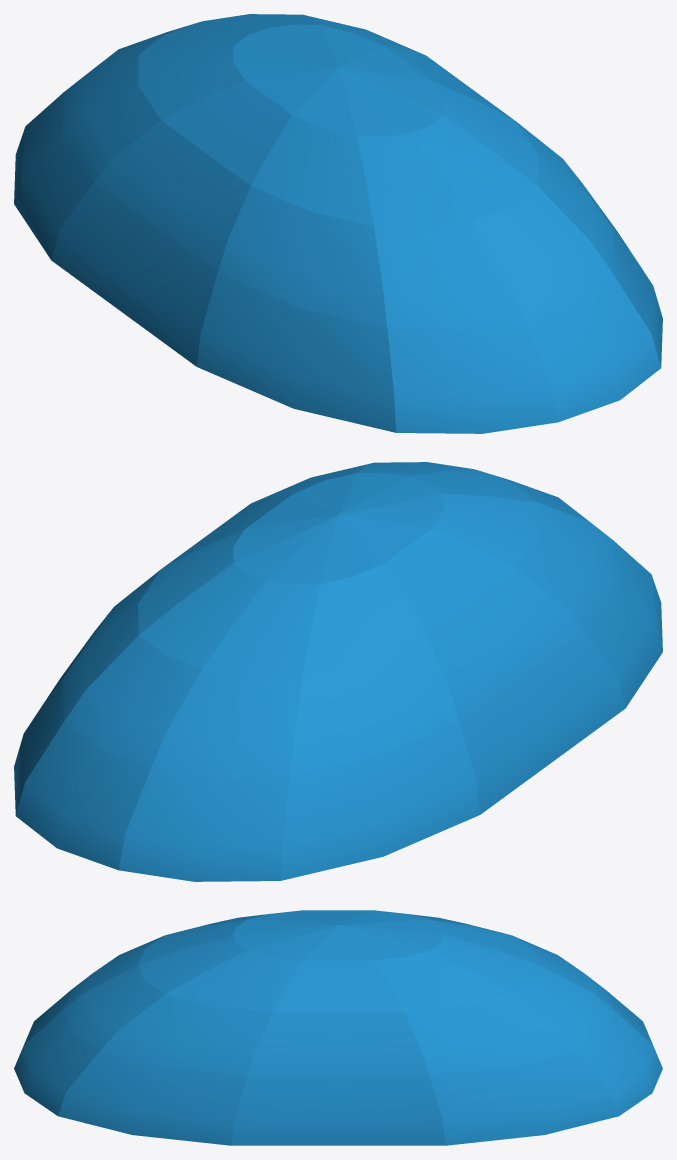
File: ComputerMouse.fbx
3 views of the same model, one above another, from view 1: azimuth 30°, elevation 25°; view 2: azimuth 150°, elevation 25°; view 3: azimuth 270°, elevation 25° (orthographic). The views are drawn at different scales.
Visible parts, largest first — view 1: ComputerMouse; view 2: ComputerMouse; view 3: ComputerMouse.
Boxes of the visible parts, x1,y1,x2,y2 form: ComputerMouse: (14, 14, 662, 433); ComputerMouse: (14, 462, 662, 881); ComputerMouse: (14, 910, 662, 1145).
Size of the model in its own units: 0.5234 by 0.2266 by 0.9295.
Materials: 1 (1 with a texture image).
